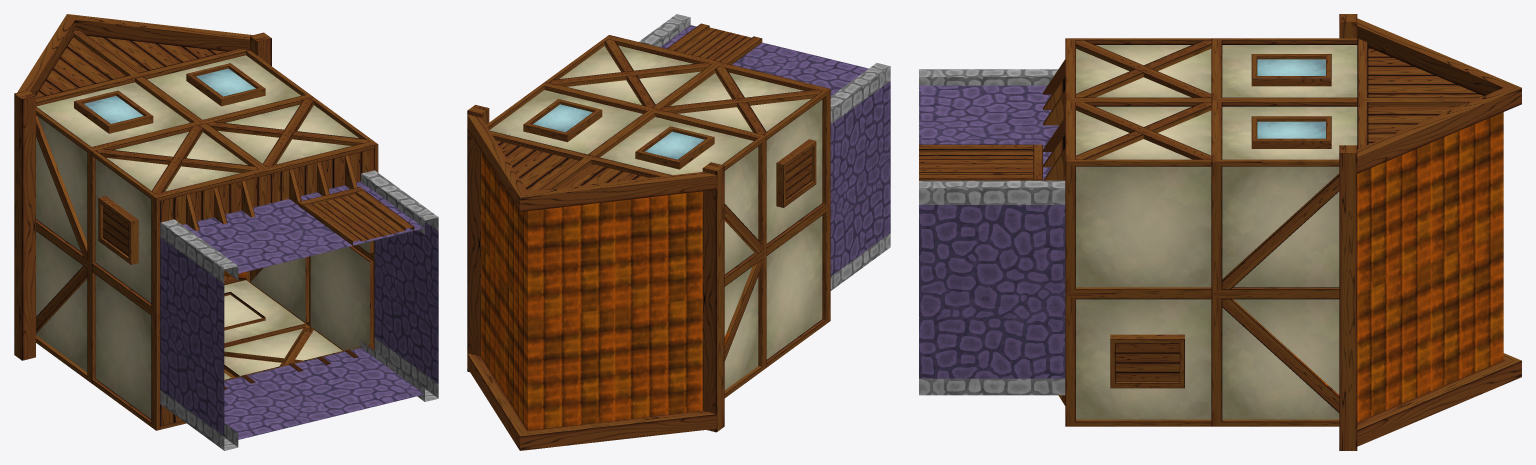
File: Medieval_House_01.fbx
3 views of the same model, side by side, from view 1: azimuth 30°, elevation 25°; view 2: azimuth 150°, elevation 25°; view 3: azimuth 270°, elevation 25° (orthographic). The views are drawn at different scales.
Parts seen in each view (by area): view 1: Medieval_House_01; view 2: Medieval_House_01; view 3: Medieval_House_01.
Part boxes in pixels (<box>): Medieval_House_01: <box>14,14,438,450</box>; Medieval_House_01: <box>467,14,890,450</box>; Medieval_House_01: <box>919,14,1521,450</box>.
Size of the model in its own units: 573 by 573 by 1051.
